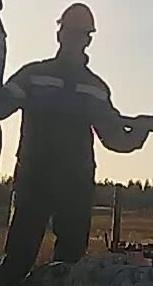helmet: (55, 3, 99, 33)
vest: (9, 59, 109, 179)
